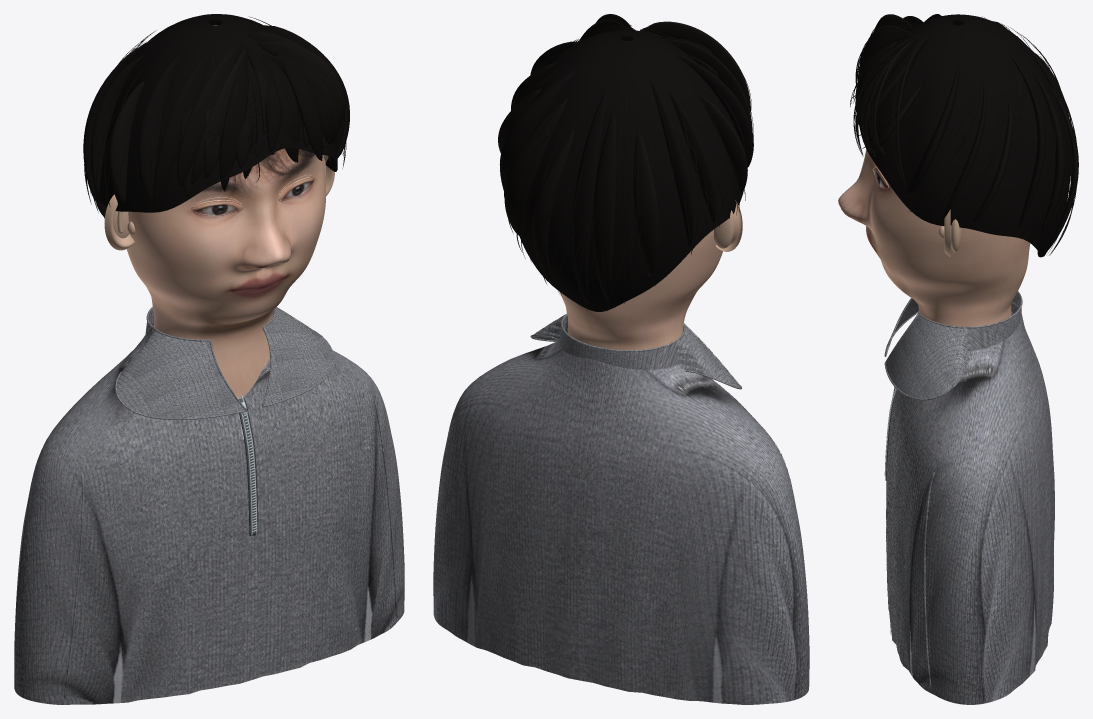
File: avatar.glb
The picture shows the model from 3 angles, left to right: view 1: azimuth 30°, elevation 25°; view 2: azimuth 150°, elevation 25°; view 3: azimuth 270°, elevation 25°; orthographic projection. The views are drawn at different scales.
Visible parts, largest first — view 1: Batch | surface 04, Batch | surface 00, Batch | surface 10, Batch | surface 09, Batch | surface 06, Batch | surface 05, Batch | surface 11, Batch | surface 12, Batch | surface 13, Batch | surface 14, Batch | surface 01, Batch | surface 07 (+1 smaller); view 2: Batch | surface 04, Batch | surface 10, Batch | surface 12, Batch | surface 11, Batch | surface 00, Batch | surface 06, Batch | surface 14, Batch | surface 13, Batch | surface 01; view 3: Batch | surface 04, Batch | surface 10, Batch | surface 00, Batch | surface 06, Batch | surface 09, Batch | surface 12, Batch | surface 11, Batch | surface 05, Batch | surface 13, Batch | surface 14, Batch | surface 01.
Part boxes in pixels (bbox=[...]): Batch | surface 04: bbox=[14, 322, 404, 704]; Batch | surface 00: bbox=[126, 25, 326, 398]; Batch | surface 10: bbox=[83, 14, 349, 217]; Batch | surface 09: bbox=[63, 363, 394, 699]; Batch | surface 06: bbox=[115, 307, 334, 419]; Batch | surface 05: bbox=[59, 364, 397, 700]; Batch | surface 11: bbox=[90, 16, 345, 205]; Batch | surface 12: bbox=[87, 32, 346, 203]; Batch | surface 13: bbox=[84, 37, 345, 205]; Batch | surface 14: bbox=[89, 30, 341, 207]; Batch | surface 01: bbox=[104, 155, 334, 250]; Batch | surface 07: bbox=[238, 397, 258, 536]; Batch | surface 04: bbox=[433, 339, 809, 704]; Batch | surface 10: bbox=[499, 29, 753, 311]; Batch | surface 12: bbox=[498, 19, 750, 308]; Batch | surface 11: bbox=[504, 25, 752, 310]; Batch | surface 00: bbox=[559, 229, 722, 350]; Batch | surface 06: bbox=[530, 313, 741, 389]; Batch | surface 14: bbox=[504, 30, 745, 311]; Batch | surface 13: bbox=[508, 14, 729, 306]; Batch | surface 01: bbox=[713, 200, 742, 251]; Batch | surface 04: bbox=[887, 301, 1054, 704]; Batch | surface 10: bbox=[853, 14, 1073, 257]; Batch | surface 00: bbox=[838, 149, 1030, 327]; Batch | surface 06: bbox=[884, 291, 1022, 400]; Batch | surface 09: bbox=[886, 387, 947, 686]; Batch | surface 12: bbox=[853, 14, 1078, 255]; Batch | surface 11: bbox=[850, 16, 1074, 234]; Batch | surface 05: bbox=[886, 387, 945, 688]; Batch | surface 13: bbox=[851, 23, 1076, 255]; Batch | surface 14: bbox=[853, 23, 1075, 254]; Batch | surface 01: bbox=[938, 209, 961, 257].
Size of the model in its own units: 1.82 by 2.88 by 1.06.
19 materials, 11 textured.
